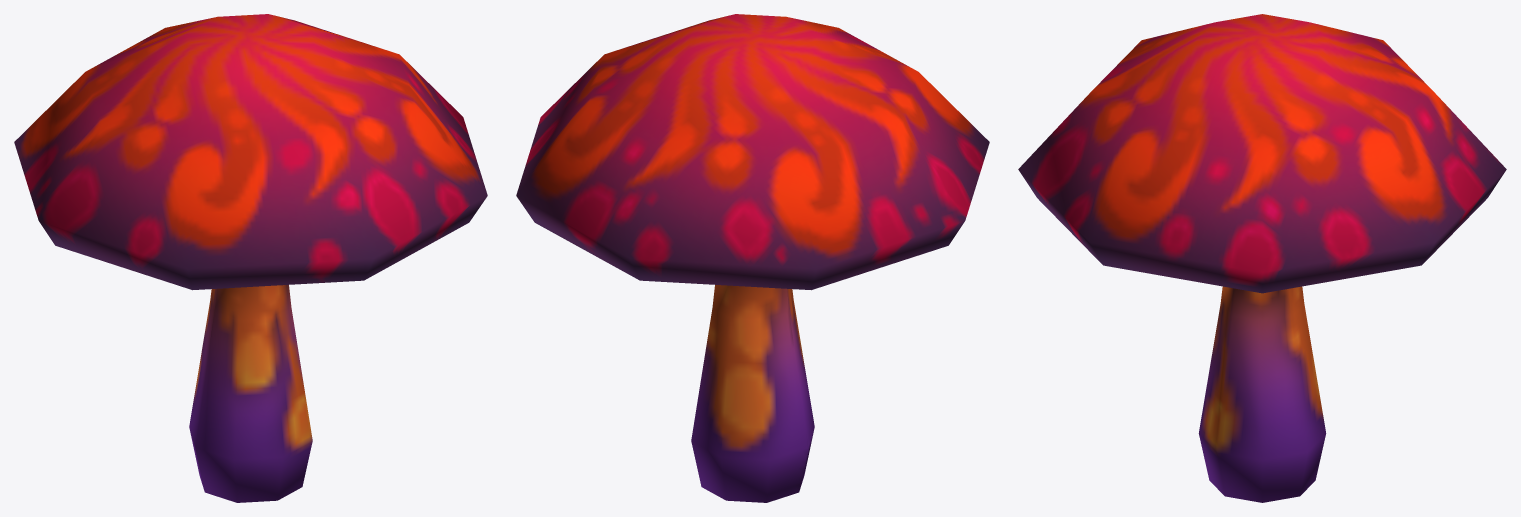
Rendered from Mushroom_01a.FBX.
3 renders of one model, left to right at view 1: azimuth 30°, elevation 25°; view 2: azimuth 150°, elevation 25°; view 3: azimuth 270°, elevation 25°, orthographic.
Visible parts, largest first — view 1: Mushroom_01a; view 2: Mushroom_01a; view 3: Mushroom_01a.
Boxes of the visible parts, bbox=[...] form: Mushroom_01a: bbox=[14, 14, 487, 502]; Mushroom_01a: bbox=[516, 14, 989, 502]; Mushroom_01a: bbox=[1018, 14, 1506, 502].
Bounding box in the file's own units: 57.15 × 58.79 × 57.15.
